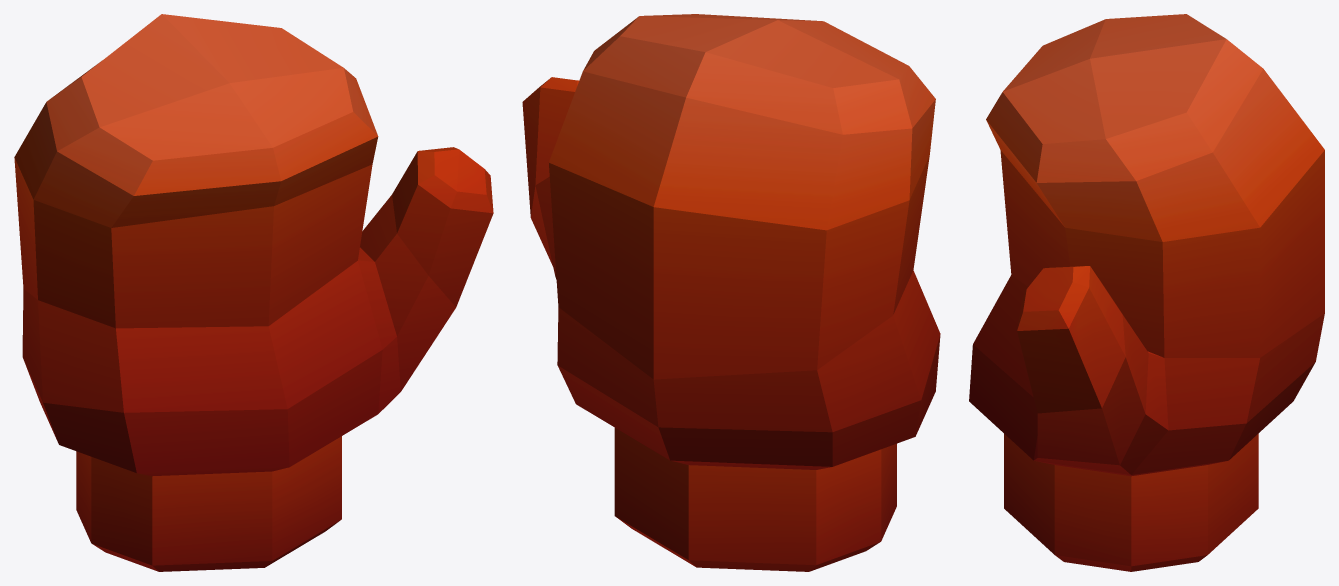
The model's file is GUANTE.fbx.
3 views of the same model, side by side, from view 1: azimuth 30°, elevation 25°; view 2: azimuth 150°, elevation 25°; view 3: azimuth 270°, elevation 25° (orthographic). The views are drawn at different scales.
Visible parts, largest first — view 1: mano; view 2: mano; view 3: mano.
Part boxes in pixels (left/top/right/bottom): mano: left=14, top=14, right=493, bottom=571; mano: left=522, top=14, right=940, bottom=571; mano: left=969, top=14, right=1324, bottom=571.
Size of the model in its own units: 59.05 by 65.64 by 43.94.
